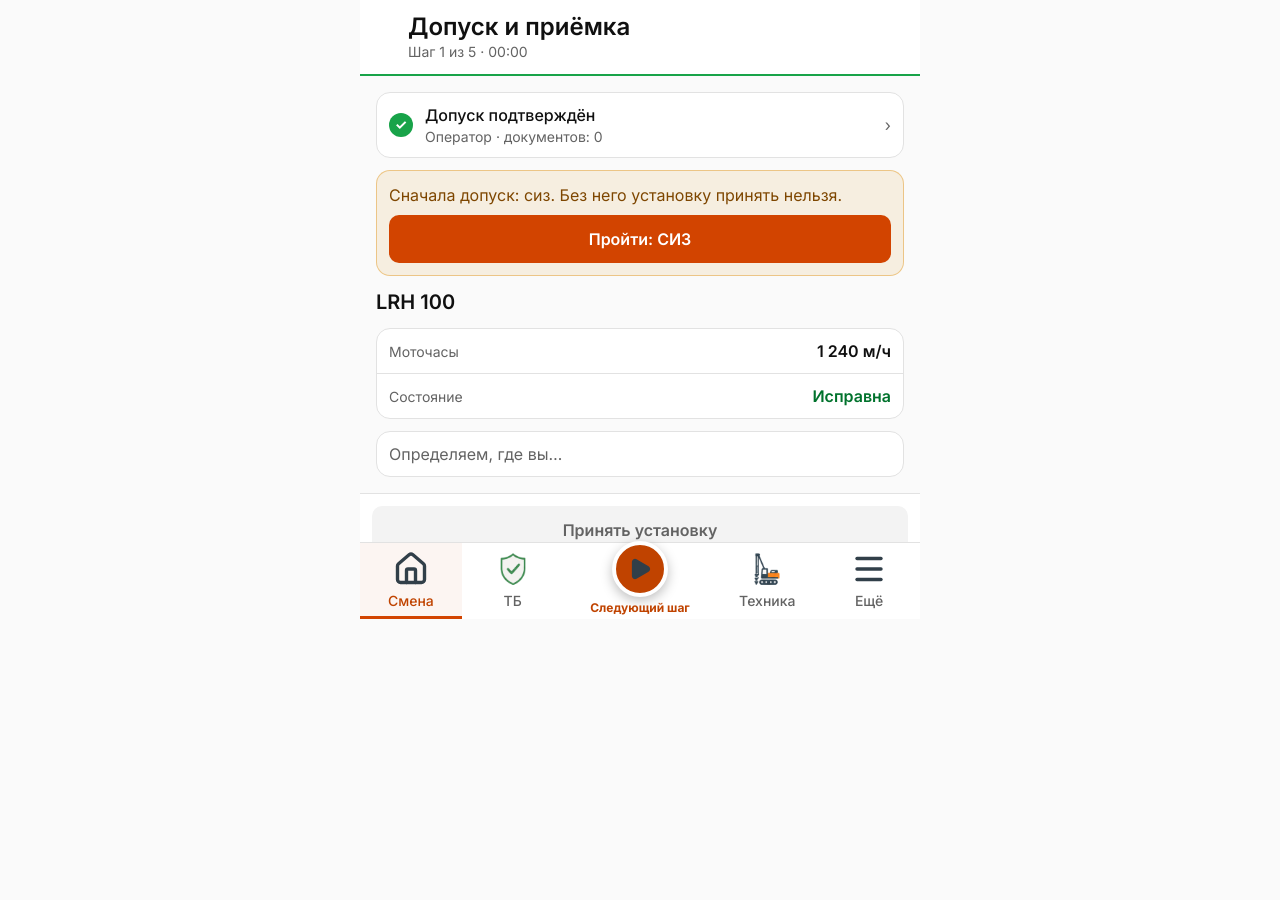
T12: следующий шаг v2 выполняет общий переход › из допуска открывает именно непроверенные СИЗ, не принимает установку
What coordinates should you click on to do the following:
click the button named "Следующий шаг: СИЗ"
I would click on:
 (640, 569)
Its box is x1=612 y1=541 x2=668 y2=597.
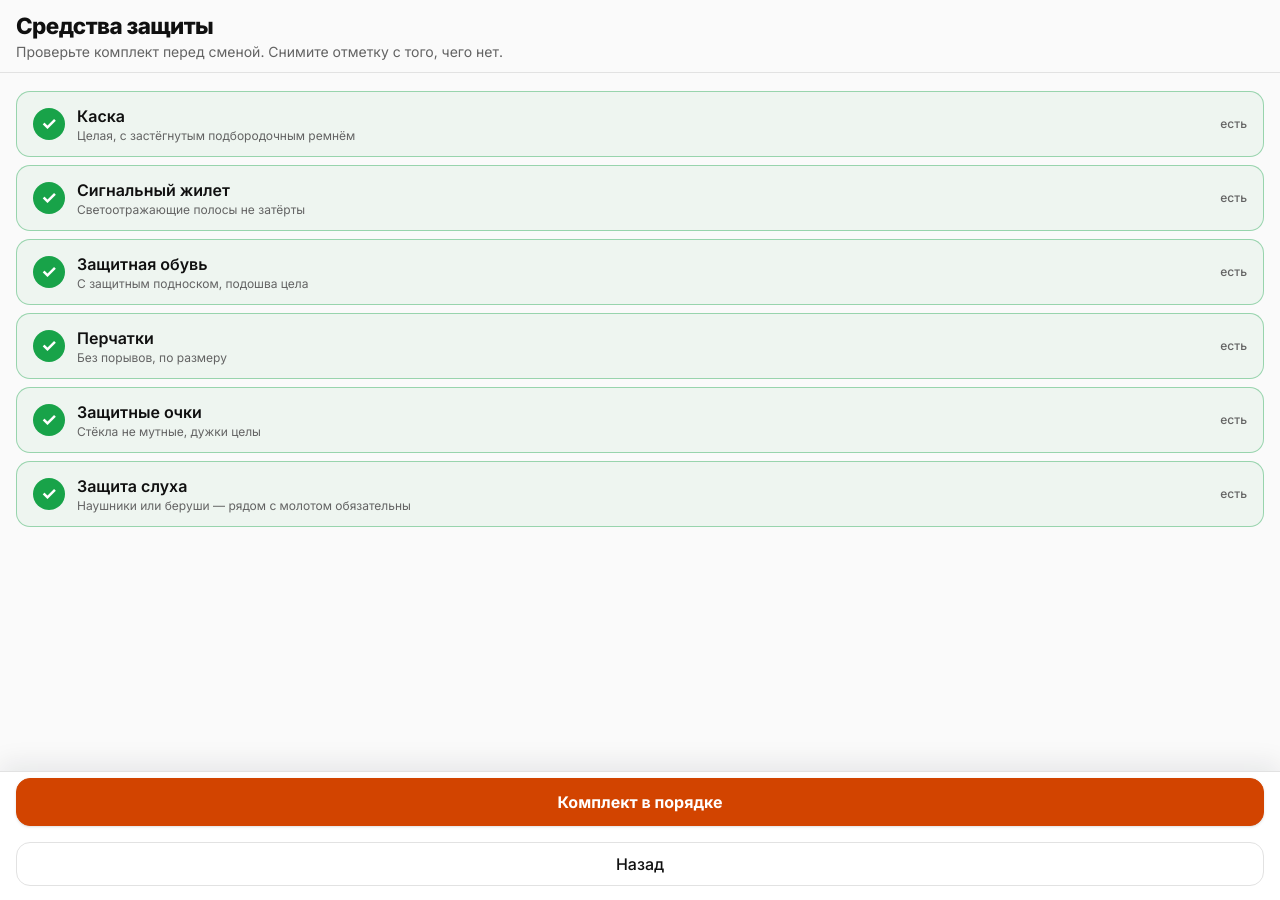
Expected: the button "Комплект в порядке" is shown, x1=16 y1=778 x2=1264 y2=826
